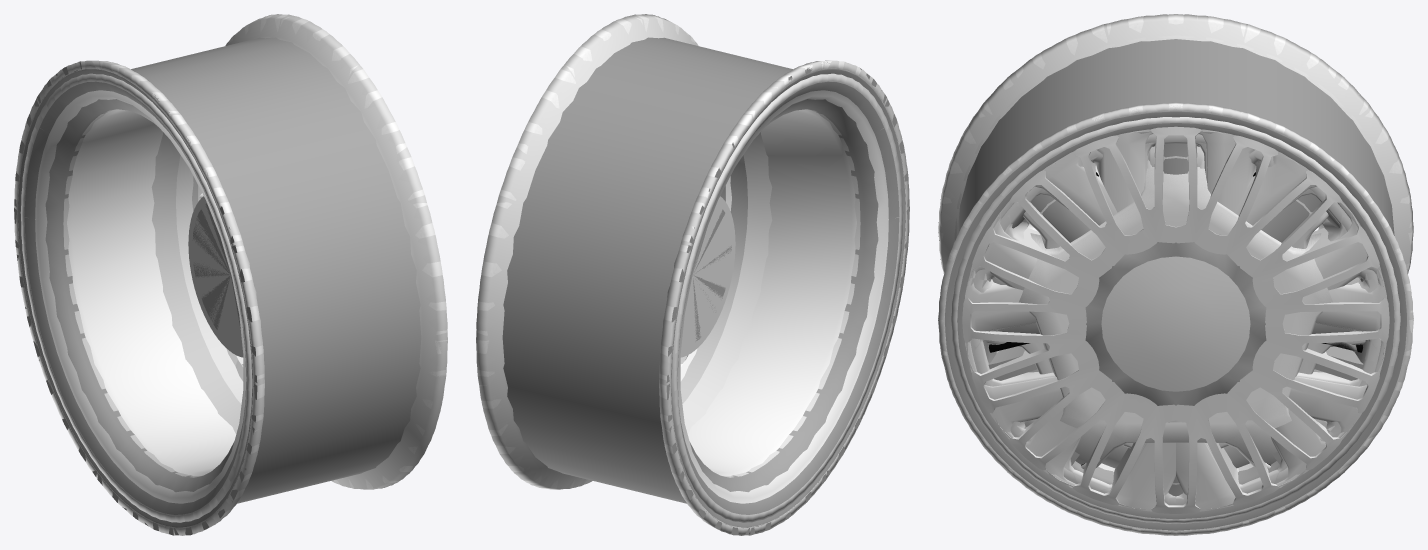
Rendered from ibishu_wheel_5lug_extension.dae.
The picture shows the model from 3 angles, left to right: view 1: azimuth 30°, elevation 25°; view 2: azimuth 150°, elevation 25°; view 3: azimuth 270°, elevation 25°; orthographic projection. The views are drawn at different scales.
Visible parts, largest first — view 1: ibishu_wheel_09a_16x7, ibishu_wheel_12b_15x7_5p, ibishu_wheel_8carrige_15x7, ibishu_wheel_16castle_16x7, ibishu_wheel_8shield_15x7, ibishu_wheel_7windmill_16x7_R, ibishu_wheel_7windmill_16x7_L, ibishu_wheel_8carrige_16x7, ibishu_wheel_10fork_16x7, ibishu_wheel_7windmill_15x7_R, ibishu_wheel_7windmill_15x7_L, ibishu_wheel_5plate_16x7; view 2: ibishu_wheel_09a_16x7, ibishu_wheel_12b_15x7_5p, ibishu_wheel_8carrige_15x7, ibishu_wheel_16castle_16x7, ibishu_wheel_8shield_15x7, ibishu_wheel_7windmill_16x7_R, ibishu_wheel_7windmill_16x7_L, ibishu_wheel_8carrige_16x7, ibishu_wheel_10fork_16x7, ibishu_wheel_7windmill_15x7_L, ibishu_wheel_7windmill_15x7_R, ibishu_wheel_5plate_16x7; view 3: ibishu_wheel_16castle_16x7, ibishu_wheel_09a_16x7, ibishu_wheel_8carrige_16x7, ibishu_wheel_5plate_16x7, ibishu_wheel_7windmill_16x7_R, ibishu_wheel_7windmill_16x7_L, ibishu_wheel_8carrige_15x7, ibishu_wheel_7windmill_15x7_L, ibishu_wheel_7windmill_15x7_R, ibishu_wheel_10fork_16x7, ibishu_wheel_8shield_16x7, ibishu_wheel_8shield_15x7 (+1 smaller).
Boxes of the visible parts, x1=… form: ibishu_wheel_09a_16x7: x1=14, y1=37, x2=421, y2=535; ibishu_wheel_12b_15x7_5p: x1=35, y1=90, x2=246, y2=503; ibishu_wheel_8carrige_15x7: x1=24, y1=81, x2=246, y2=514; ibishu_wheel_16castle_16x7: x1=15, y1=14, x2=446, y2=534; ibishu_wheel_8shield_15x7: x1=63, y1=110, x2=243, y2=477; ibishu_wheel_7windmill_16x7_R: x1=14, y1=14, x2=447, y2=535; ibishu_wheel_7windmill_16x7_L: x1=14, y1=14, x2=447, y2=535; ibishu_wheel_8carrige_16x7: x1=18, y1=69, x2=252, y2=527; ibishu_wheel_10fork_16x7: x1=18, y1=14, x2=447, y2=527; ibishu_wheel_7windmill_15x7_R: x1=21, y1=73, x2=252, y2=522; ibishu_wheel_7windmill_15x7_L: x1=20, y1=74, x2=251, y2=522; ibishu_wheel_5plate_16x7: x1=18, y1=68, x2=446, y2=527; ibishu_wheel_09a_16x7: x1=502, y1=37, x2=909, y2=535; ibishu_wheel_12b_15x7_5p: x1=677, y1=90, x2=888, y2=503; ibishu_wheel_8carrige_15x7: x1=677, y1=81, x2=899, y2=514; ibishu_wheel_16castle_16x7: x1=477, y1=14, x2=908, y2=534; ibishu_wheel_8shield_15x7: x1=680, y1=110, x2=860, y2=477; ibishu_wheel_7windmill_16x7_R: x1=476, y1=14, x2=909, y2=535; ibishu_wheel_7windmill_16x7_L: x1=476, y1=14, x2=909, y2=535; ibishu_wheel_8carrige_16x7: x1=671, y1=69, x2=905, y2=527; ibishu_wheel_10fork_16x7: x1=476, y1=14, x2=905, y2=527; ibishu_wheel_7windmill_15x7_L: x1=671, y1=73, x2=902, y2=522; ibishu_wheel_7windmill_15x7_R: x1=672, y1=74, x2=903, y2=522; ibishu_wheel_5plate_16x7: x1=476, y1=68, x2=905, y2=527; ibishu_wheel_16castle_16x7: x1=940, y1=19, x2=1411, y2=534; ibishu_wheel_09a_16x7: x1=938, y1=39, x2=1413, y2=465; ibishu_wheel_8carrige_16x7: x1=945, y1=111, x2=1406, y2=530; ibishu_wheel_5plate_16x7: x1=938, y1=105, x2=1413, y2=535; ibishu_wheel_7windmill_16x7_R: x1=938, y1=14, x2=1412, y2=535; ibishu_wheel_7windmill_16x7_L: x1=939, y1=14, x2=1413, y2=535; ibishu_wheel_8carrige_15x7: x1=957, y1=123, x2=1394, y2=519; ibishu_wheel_7windmill_15x7_L: x1=952, y1=117, x2=1400, y2=523; ibishu_wheel_7windmill_15x7_R: x1=951, y1=117, x2=1399, y2=523; ibishu_wheel_10fork_16x7: x1=938, y1=14, x2=1413, y2=469; ibishu_wheel_8shield_16x7: x1=938, y1=105, x2=1401, y2=535; ibishu_wheel_8shield_15x7: x1=954, y1=35, x2=1397, y2=240.
Bounding box in the file's own units: 0.2142 × 0.4414 × 0.4414.
9 materials, 2 textured.
